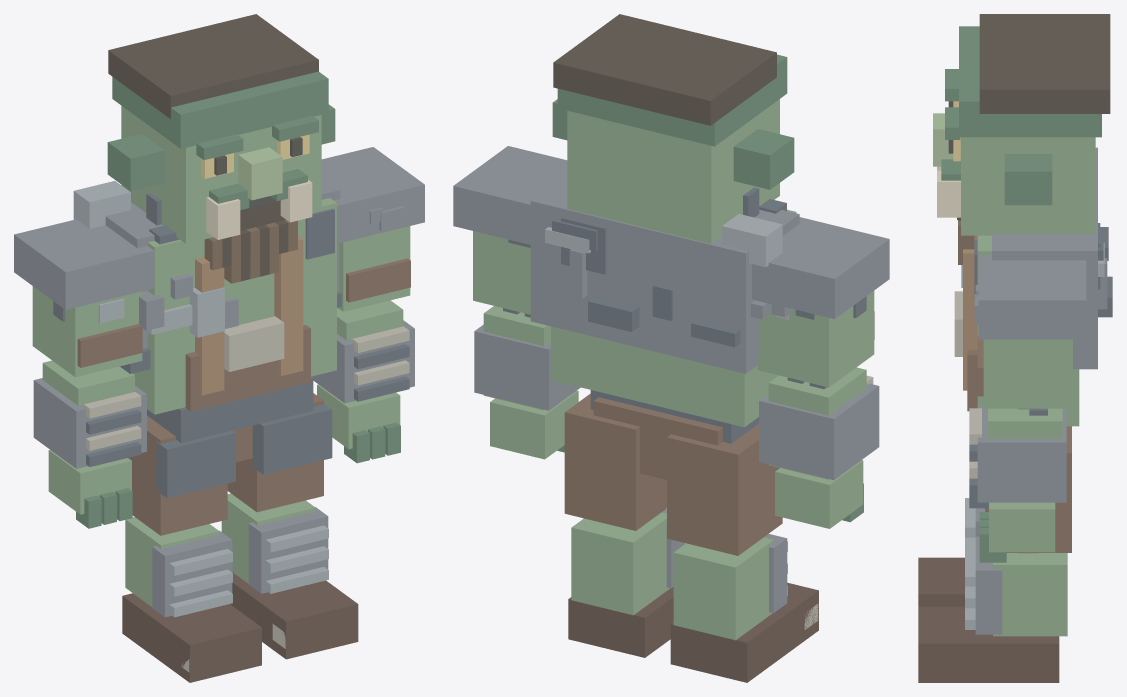
Rendered from orc_modular_v01.glb.
3 views of the same model, side by side, from view 1: azimuth 30°, elevation 25°; view 2: azimuth 150°, elevation 25°; view 3: azimuth 270°, elevation 25° (orthographic). The views are drawn at different scales.
Visible parts, largest first — view 1: torso, head, upper_arm_L, hair, upper_arm_R, forearm_L, thigh_L, shin_L, shin_R, foot_L, thigh_R, forearm_R (+7 smaller); view 2: torso, head, upper_arm_L, hair, thigh_L, upper_arm_R, forearm_L, shin_L, thigh_R, shin_R, forearm_R, foot_L (+4 smaller); view 3: head, upper_arm_R, hair, torso, forearm_R, shin_R, foot_R, hand_R, foot_L, thigh_R, brows, shin_L (+2 smaller).
Boxes of the visible parts, <box> form: torso: <box>73,176,341,414</box>; head: <box>107,71,335,243</box>; upper_arm_L: <box>14,219,154,377</box>; hair: <box>108,14,318,119</box>; upper_arm_R: <box>321,147,424,311</box>; forearm_L: <box>33,360,146,468</box>; thigh_L: <box>128,415,235,535</box>; shin_L: <box>125,517,232,617</box>; shin_R: <box>221,493,328,593</box>; foot_L: <box>122,593,261,682</box>; thigh_R: <box>227,393,332,512</box>; forearm_R: <box>311,300,414,403</box>; torso: <box>530,174,799,427</box>; head: <box>552,54,794,243</box>; upper_arm_L: <box>750,217,889,387</box>; hair: <box>553,14,776,125</box>; thigh_L: <box>667,424,782,555</box>; upper_arm_R: <box>453,146,567,314</box>; forearm_L: <box>759,367,879,480</box>; shin_L: <box>673,534,787,640</box>; thigh_R: <box>564,393,666,530</box>; shin_R: <box>571,509,685,615</box>; forearm_R: <box>474,306,580,410</box>; foot_L: <box>670,582,818,682</box>; head: <box>933,26,1101,235</box>; upper_arm_R: <box>974,255,1086,409</box>; hair: <box>979,14,1110,113</box>; torso: <box>954,147,1112,426</box>; forearm_R: <box>969,406,1066,502</box>; shin_R: <box>965,536,1067,636</box>; foot_R: <box>918,606,1059,682</box>; hand_R: <box>979,502,1055,562</box>; foot_L: <box>918,557,964,606</box>; thigh_R: <box>969,426,1071,553</box>; brows: <box>945,69,960,139</box>; shin_L: <box>965,498,984,546</box>.
Bounding box in the file's own units: 2.09 × 3.13 × 0.9357.
